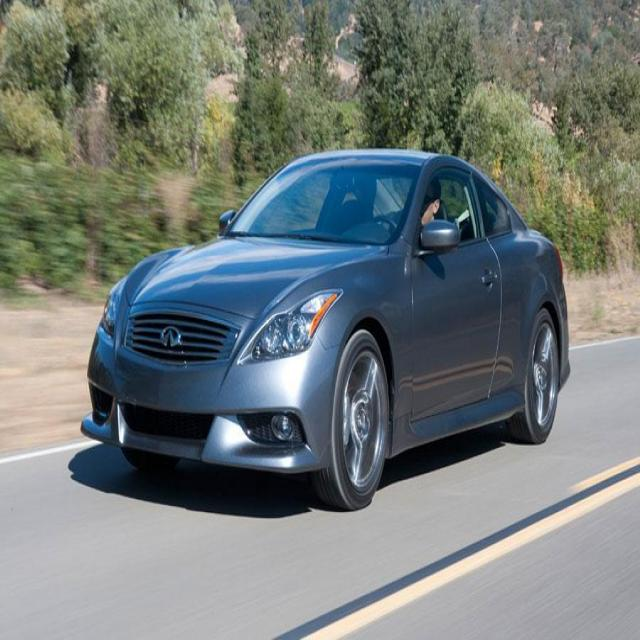car: (80, 149, 572, 510)
